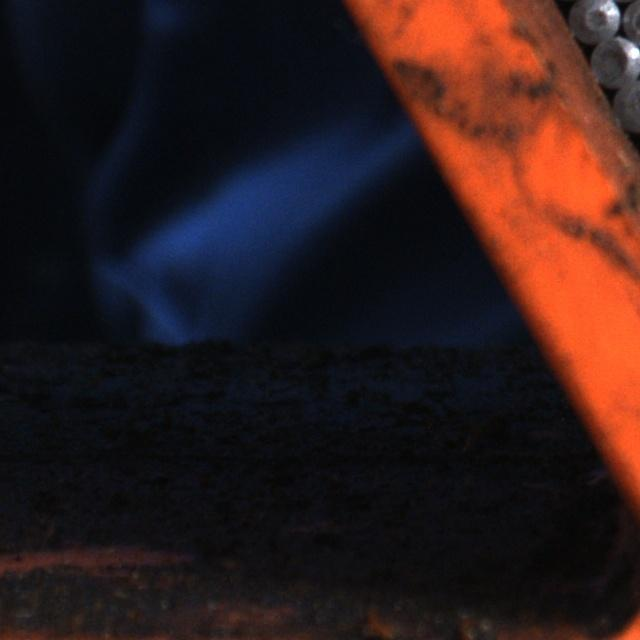tool: (587, 33, 640, 86), (568, 0, 618, 41), (614, 76, 640, 130)
